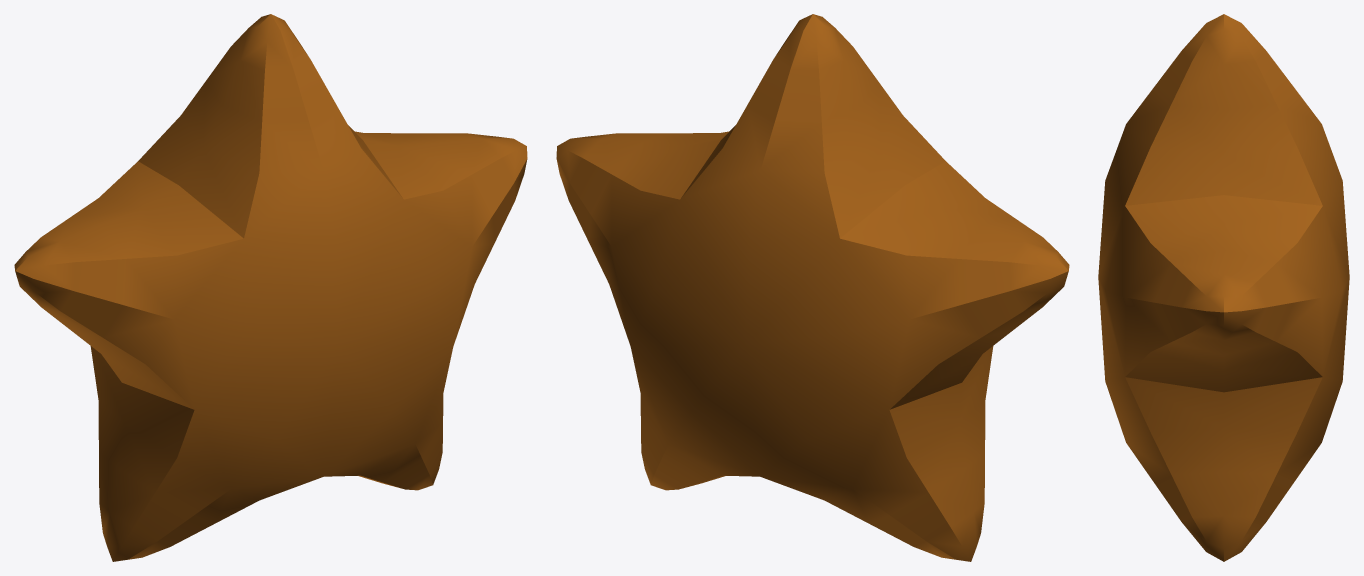
File: Star.fbx
The picture shows the model from 3 angles, left to right: view 1: azimuth 30°, elevation 25°; view 2: azimuth 150°, elevation 25°; view 3: azimuth 270°, elevation 25°; orthographic projection. The views are drawn at different scales.
Visible parts, largest first — view 1: Star; view 2: Star; view 3: Star.
Part boxes in pixels (bbox=[...]): Star: bbox=[14, 14, 527, 561]; Star: bbox=[556, 14, 1069, 561]; Star: bbox=[1098, 14, 1349, 561].
Bounding box in the file's own units: 151 × 144 × 68.79.
